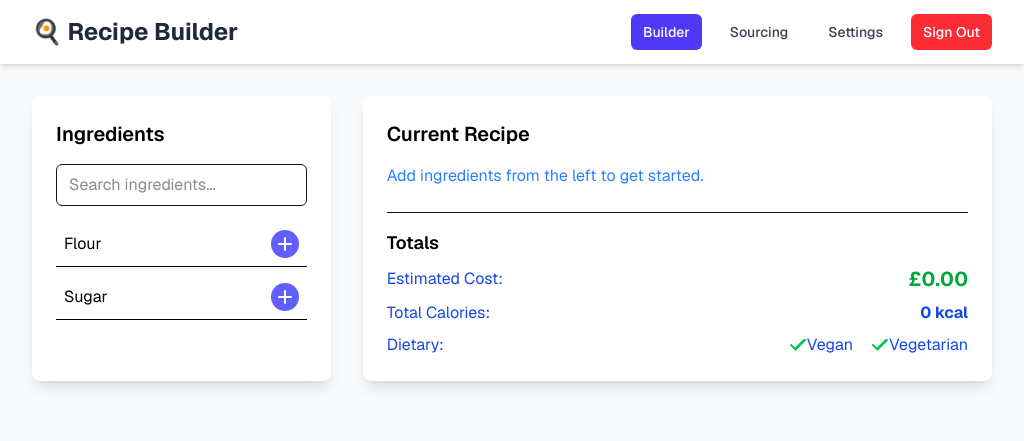
CookingFormulationApp - Recipe Builder › should add an ingredient to the recipe and update totals
This screenshot has width=1024, height=441.
Note: Wait for ingredients to load and be displayed
Click the button named "add": [285, 244] box [271,230,299,258]
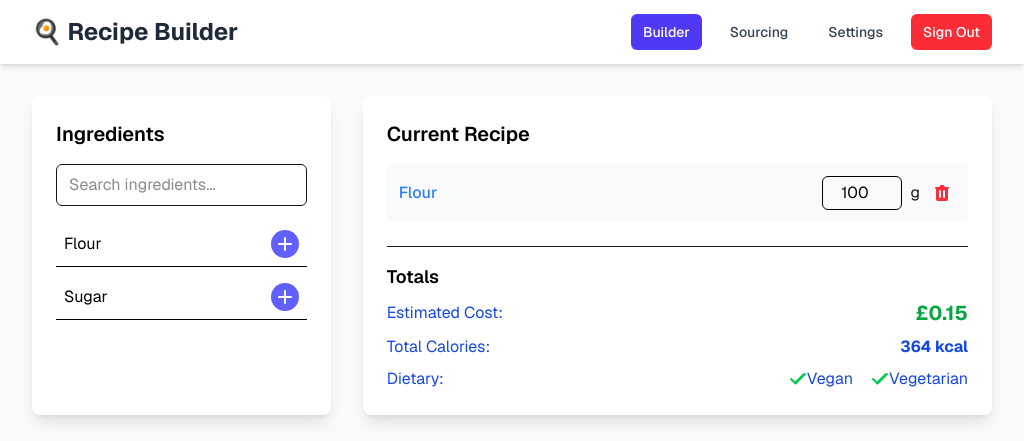
expect the text "Flour" below "Current Recipe" is shown: met, box [399,182,437,203]
expect the number field showing "100" is shown: met, box [822,176,902,210]
expect the text "£0.15" is shown: met, box [915,299,968,327]
